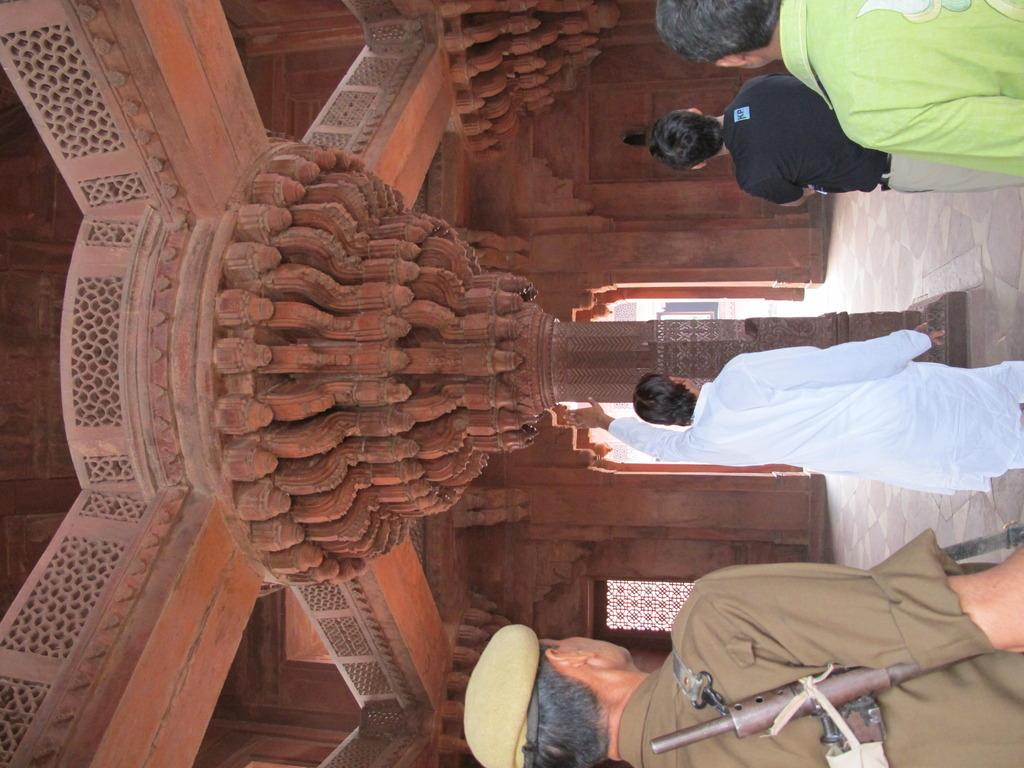Shotgun: (649, 656, 987, 767)
